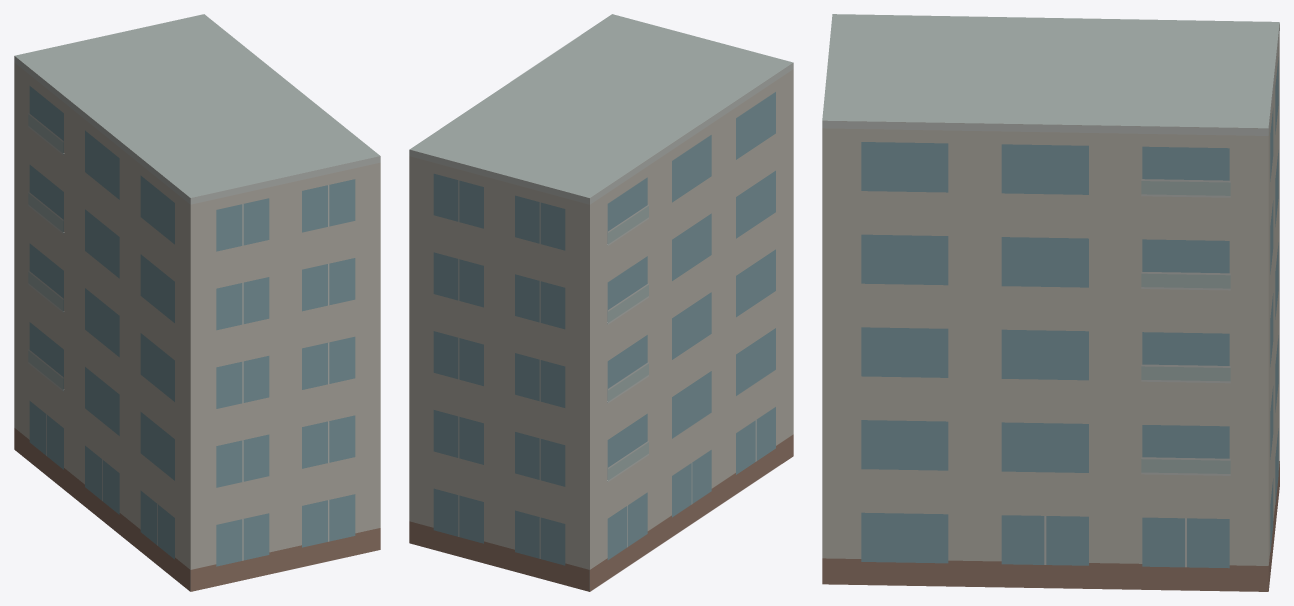
The model's file is survey-upis-32653978.glb.
The picture shows the model from 3 angles, left to right: view 1: azimuth 30°, elevation 25°; view 2: azimuth 150°, elevation 25°; view 3: azimuth 270°, elevation 25°; orthographic projection. The views are drawn at different scales.
Parts seen in each view (by area): view 1: survey-upis-32653978.tmp; view 2: survey-upis-32653978.tmp; view 3: survey-upis-32653978.tmp.
Boxes of the visible parts, <box> form: survey-upis-32653978.tmp: <box>14,14,380,591</box>; survey-upis-32653978.tmp: <box>409,14,793,591</box>; survey-upis-32653978.tmp: <box>822,14,1279,591</box>.
Bounding box in the file's own units: 7.73 × 14.6 × 13.07.
